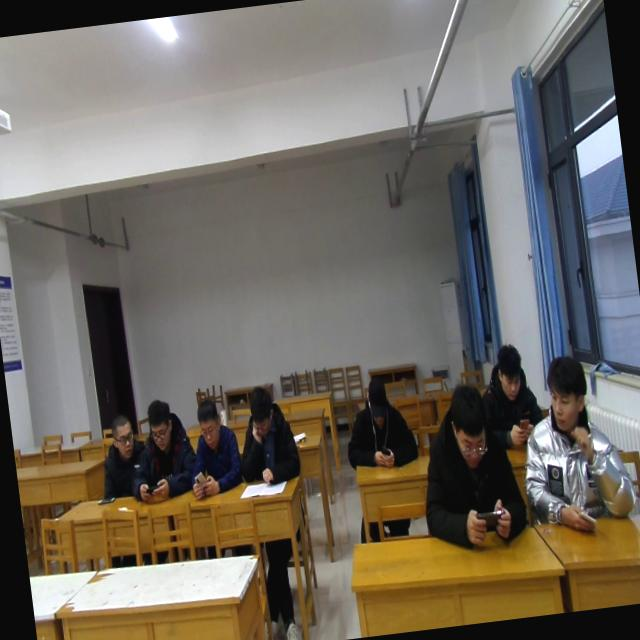down: (442, 378, 495, 474), (490, 338, 527, 404), (140, 392, 176, 456), (191, 394, 226, 454), (242, 381, 276, 441), (362, 370, 392, 426)
sit: (510, 350, 640, 540), (409, 378, 531, 556), (124, 396, 204, 508), (338, 375, 424, 478), (476, 336, 550, 452), (230, 382, 304, 492), (180, 395, 244, 499), (91, 410, 153, 500)
